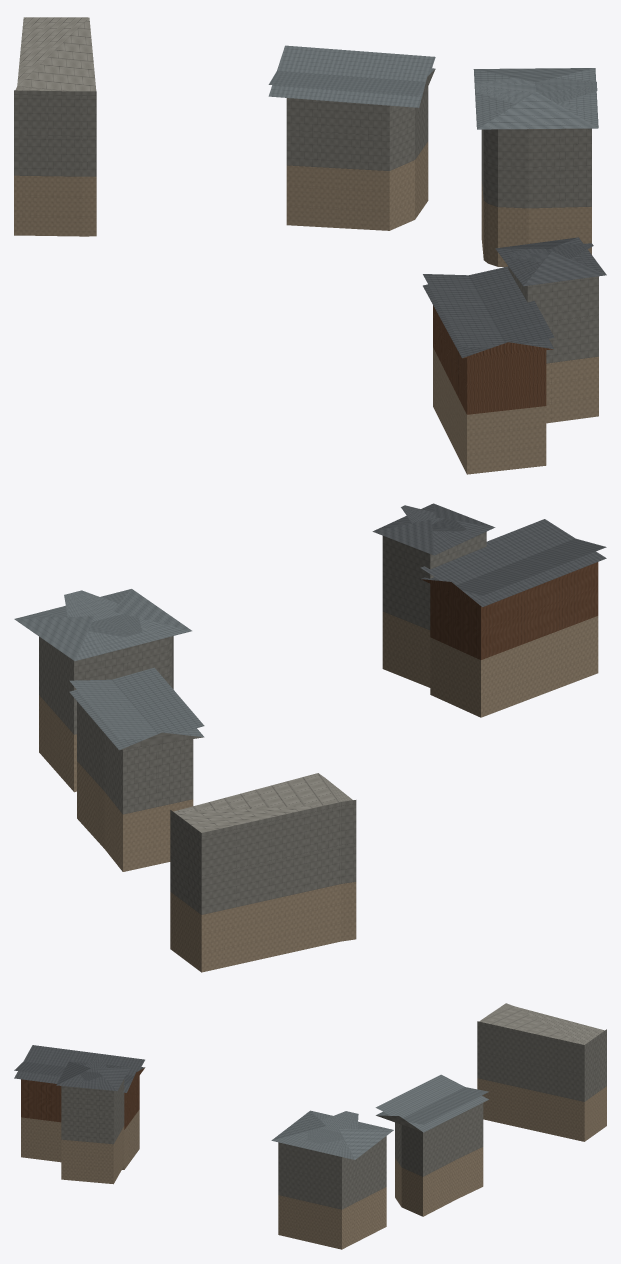
The model's file is bld_c28_-54_552.gltf.
The picture shows the model from 3 angles, top to bottom: view 1: azimuth 30°, elevation 25°; view 2: azimuth 150°, elevation 25°; view 3: azimuth 270°, elevation 25°; orthographic projection. The views are drawn at different scales.
Visible parts, largest first — view 1: bld_c28_-54_552; view 2: bld_c28_-54_552; view 3: bld_c28_-54_552.
Part boxes in pixels (x1,y1,x2,y2): bld_c28_-54_552: [14, 17, 606, 474]; bld_c28_-54_552: [14, 503, 606, 972]; bld_c28_-54_552: [14, 1003, 606, 1249].
Bounding box in the file's own units: 41.85 × 13.8 × 68.66.
8 materials, 8 textured.
